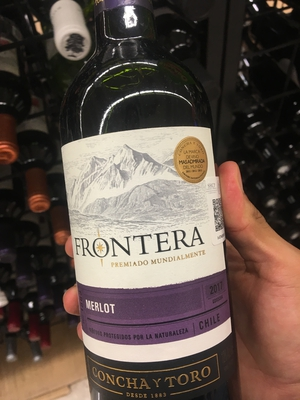frontera merlot: (49, 8, 249, 400)
